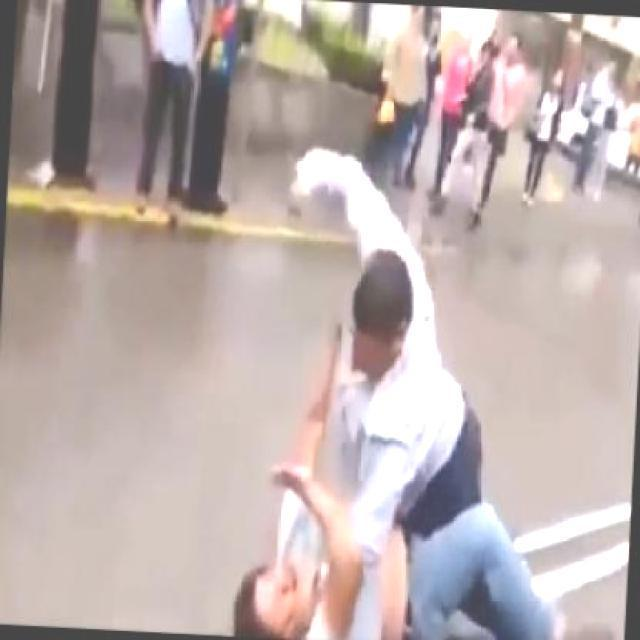fight: (227, 140, 596, 638)
